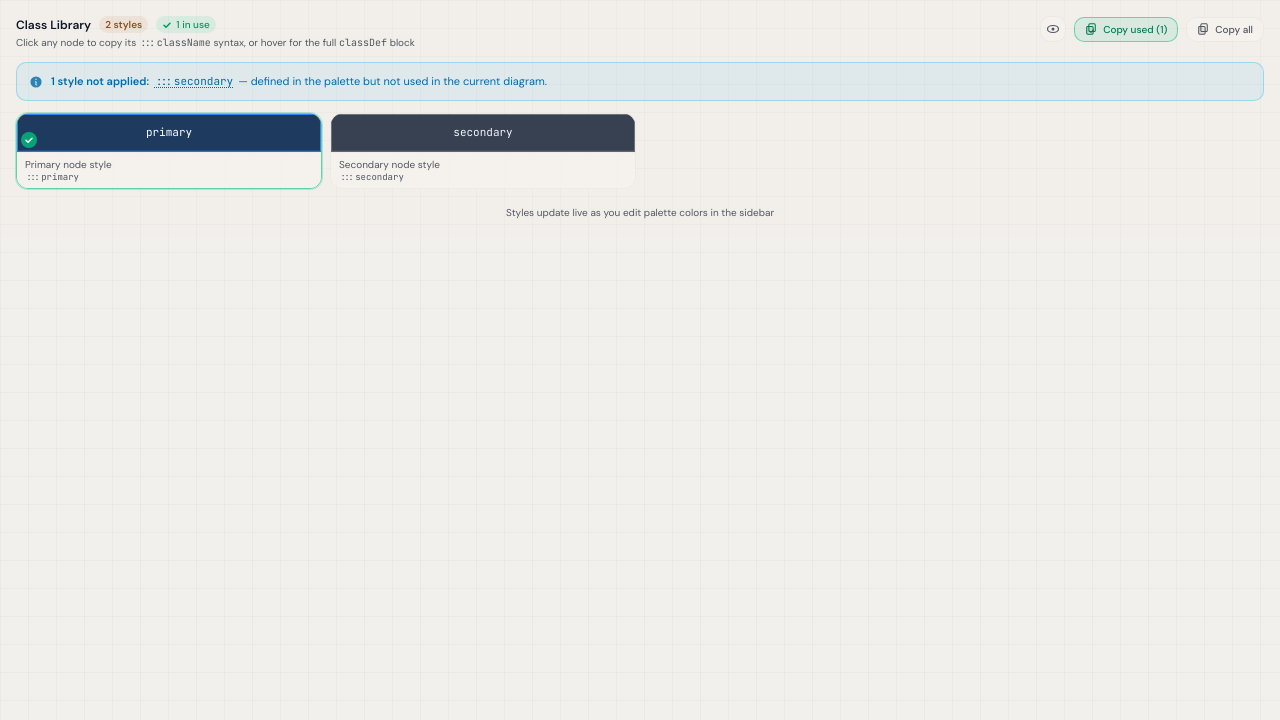
Test: ClassBrowser — All / Used preview panel toggle › clicking 'All' shows both primary and secondary in the pre
Click the button named "Preview all classDefs". click: (1053, 29)
box: [1040,16,1066,42]
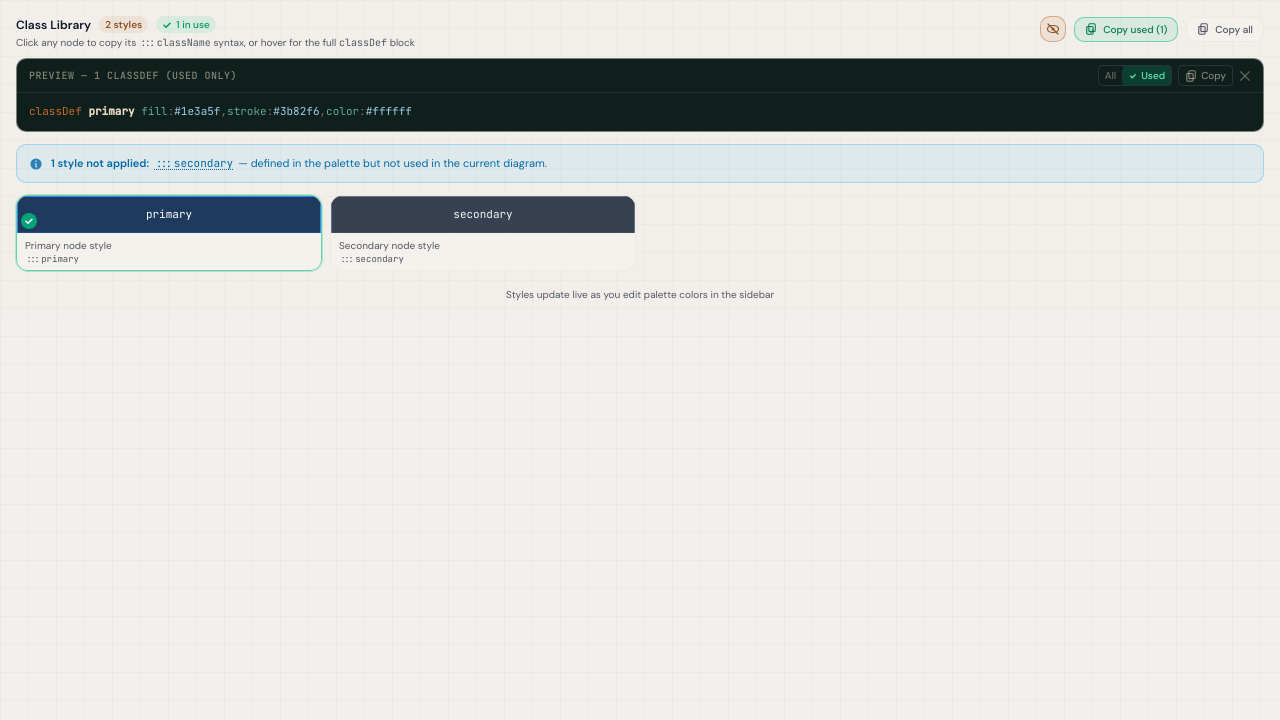
Click the button titled "Show all classDefs". click: (1110, 76)
box: [1099,66,1122,85]
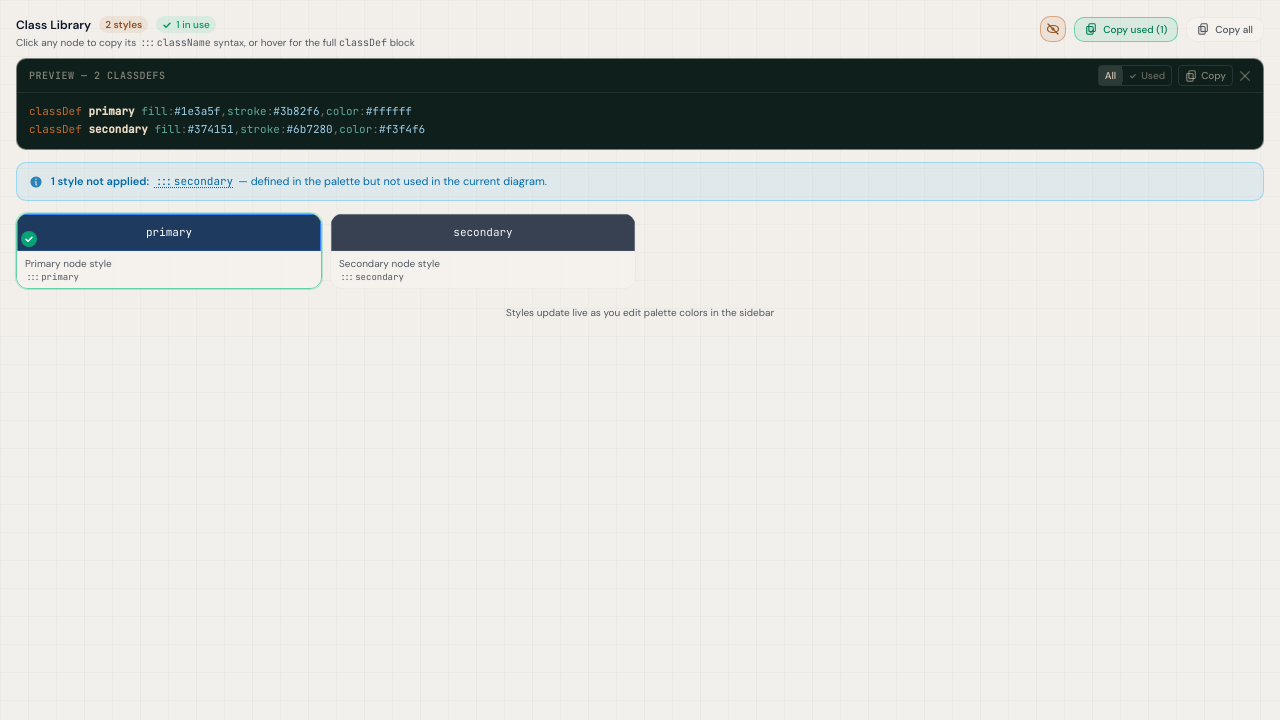
Expected: the element that starts with "classDef" shows "primary", [88,104,135,118]
Expected: the element that starts with "classDef" shows "secondary", [88,122,148,136]
